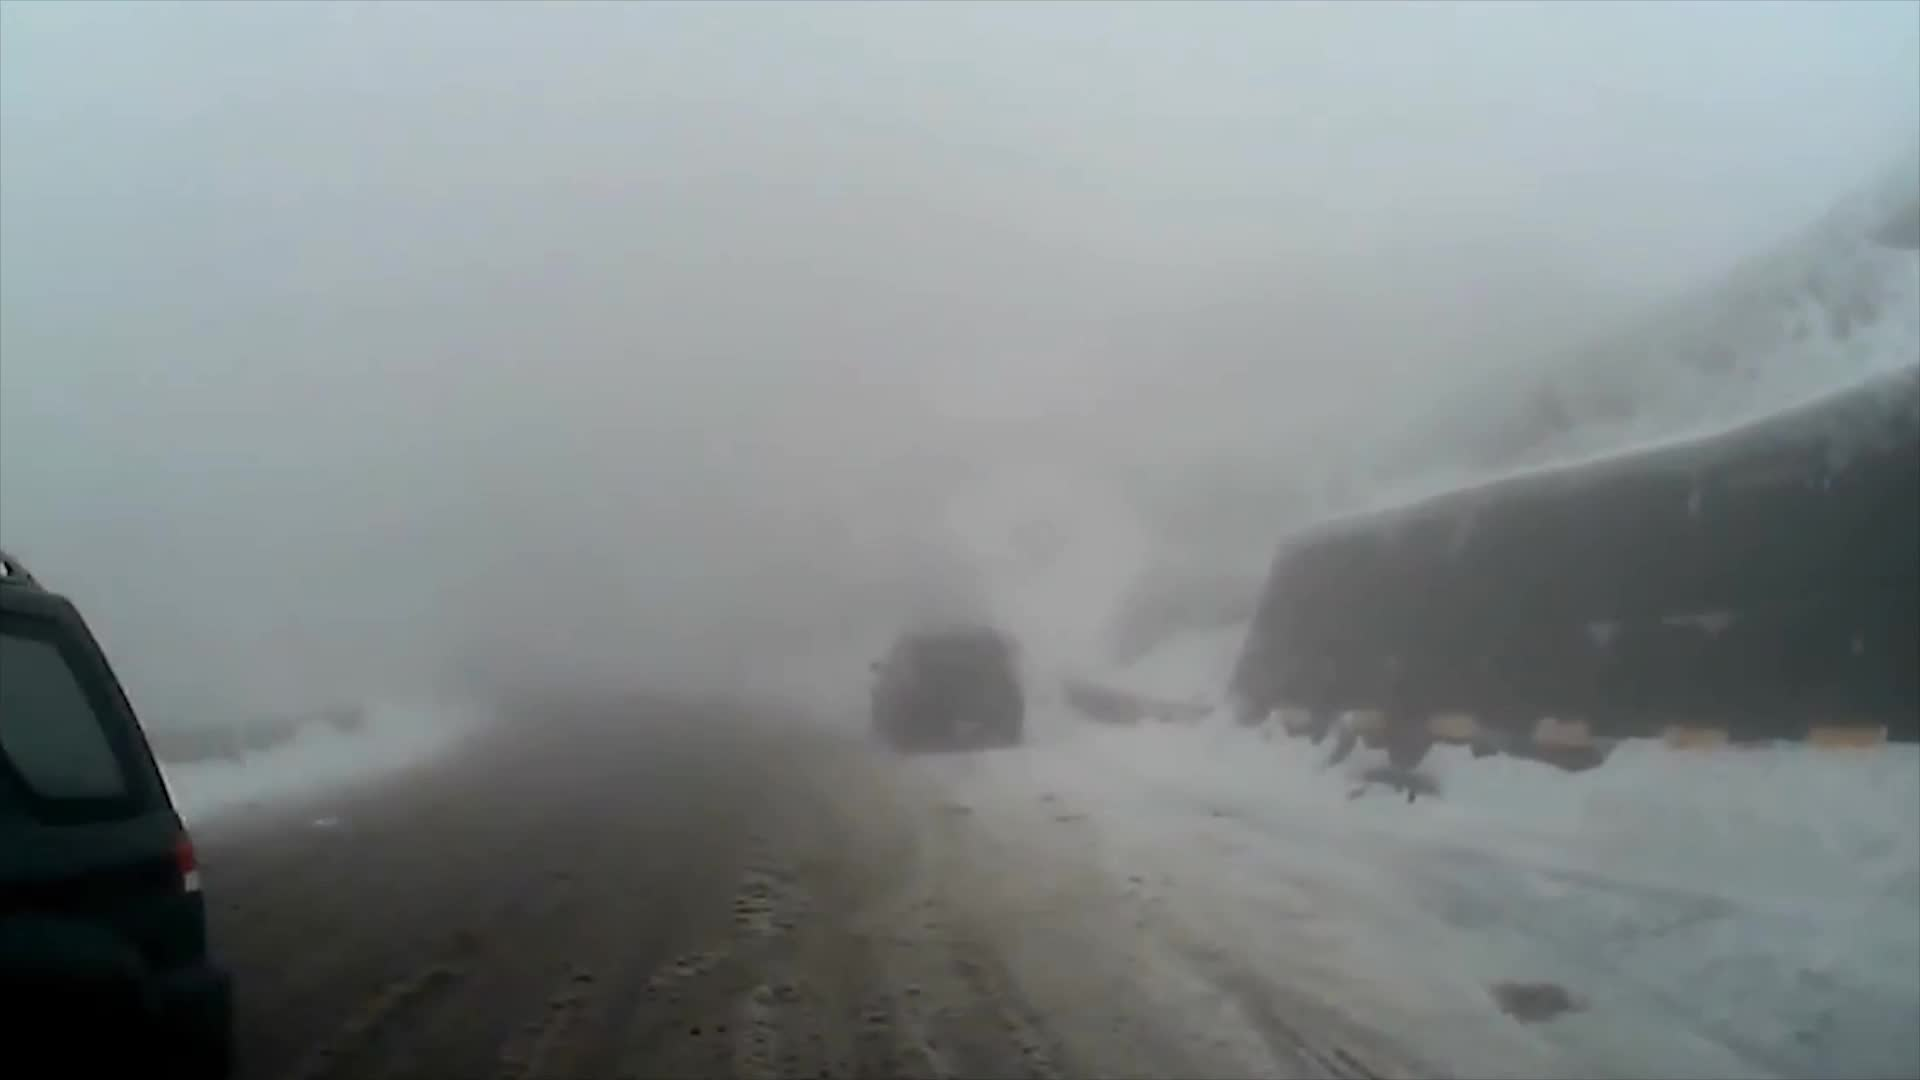vehicle: (0, 549, 225, 1075), (865, 618, 1023, 753)
